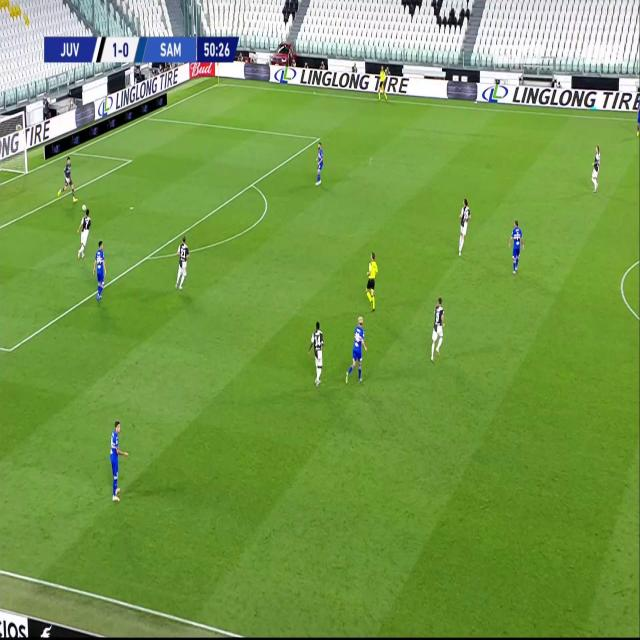ball: (82, 202, 86, 212)
player: (107, 415, 127, 502), (344, 314, 368, 386), (428, 294, 446, 364), (307, 319, 325, 388), (364, 250, 380, 312), (507, 218, 524, 276), (92, 239, 107, 304), (57, 154, 77, 202), (174, 234, 190, 292), (457, 196, 471, 256), (76, 210, 91, 262), (590, 143, 601, 194), (314, 142, 325, 187), (376, 64, 388, 103), (635, 93, 640, 140)
